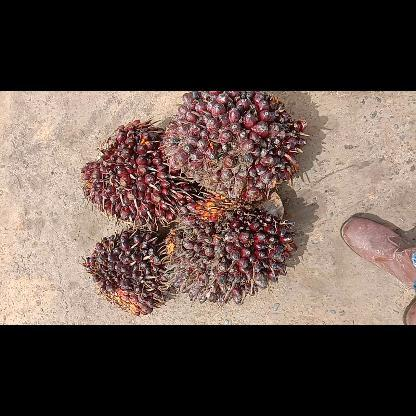Kurang masak: (162, 190, 300, 308), (78, 116, 206, 231)
TBS mentah: (160, 92, 310, 206), (80, 222, 172, 318)
